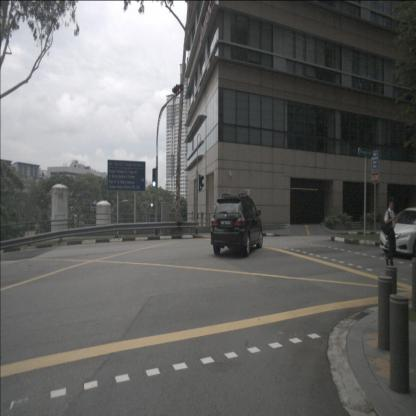human-pedestrian-adult: (381, 197, 400, 269)
vehicle-car: (210, 194, 263, 257), (380, 207, 416, 260)
